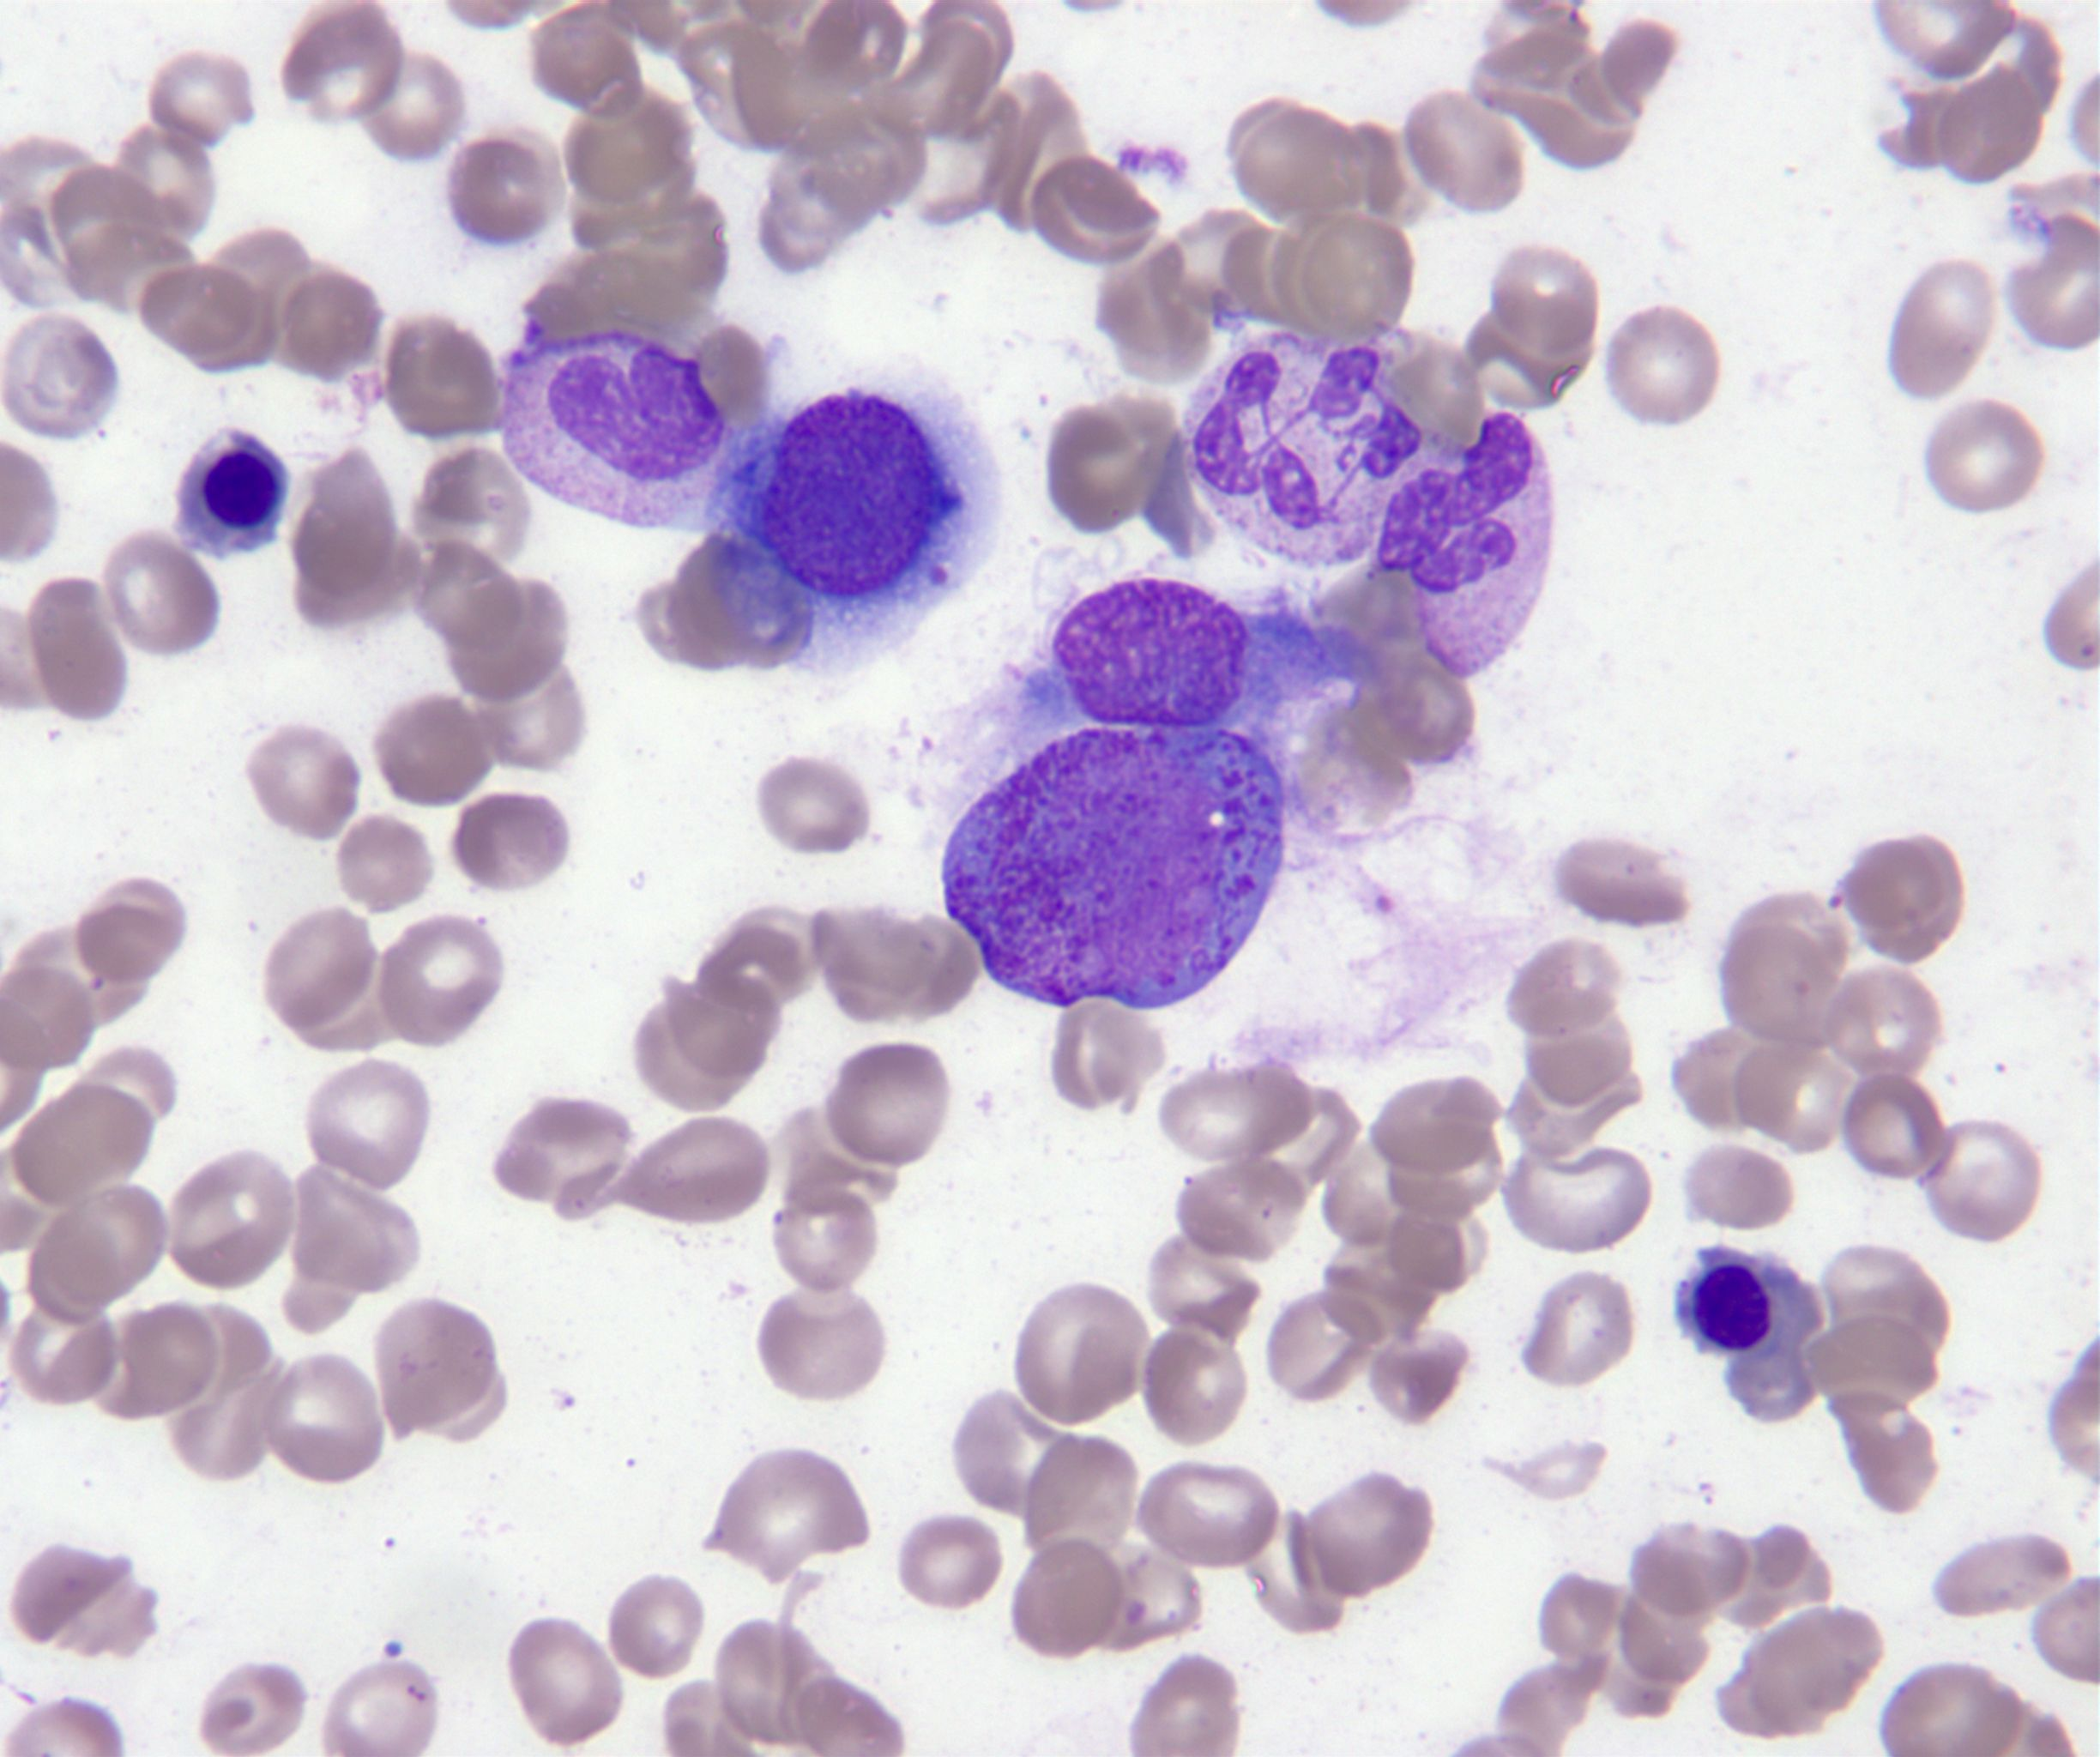2: (945, 724, 1292, 1005)
24: (173, 429, 286, 560), (1680, 1246, 1803, 1359)
5: (502, 335, 734, 529)
6: (1174, 330, 1467, 565), (1369, 414, 1552, 673)
x: (705, 377, 1001, 668), (1053, 581, 1258, 724)
